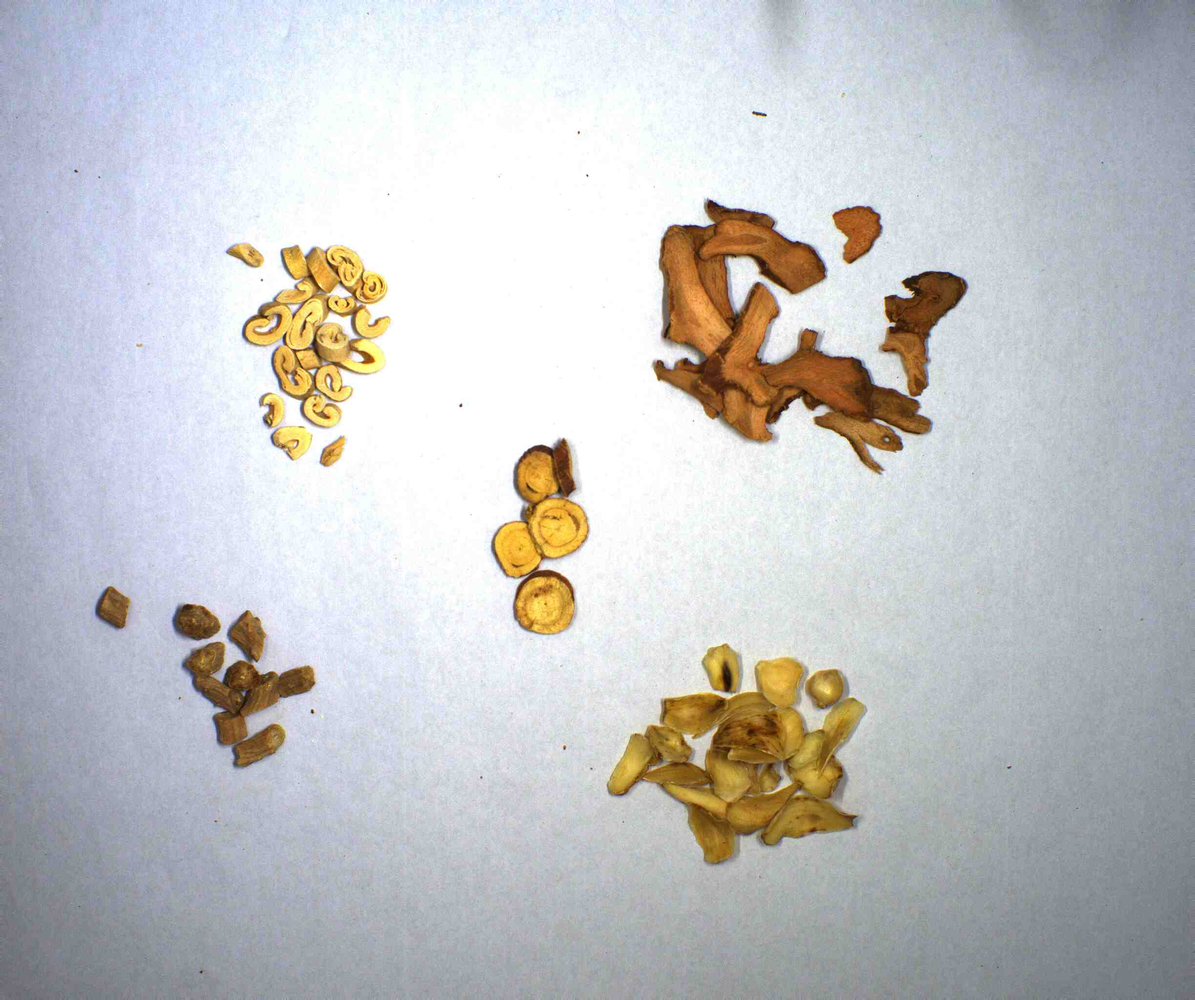baihe: (613, 645, 877, 872)
baixianpi: (217, 232, 396, 478)
gancao: (480, 437, 601, 646)
gaoliangjiang: (655, 192, 991, 471)
niuxi: (89, 586, 321, 777)
